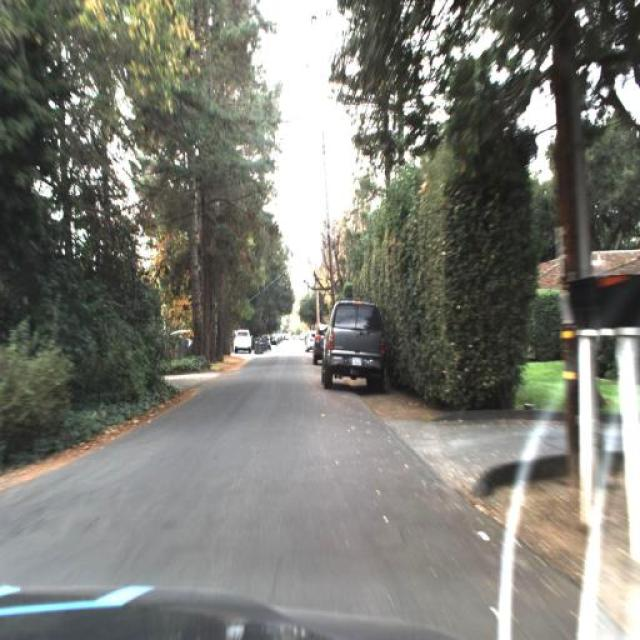car: (318, 296, 384, 402), (232, 320, 252, 356)
